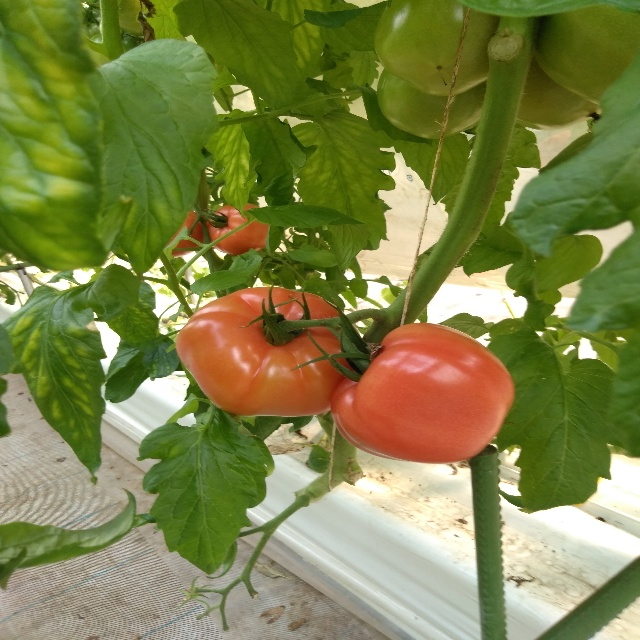b_fully_ripened: (329, 322, 514, 464), (175, 287, 369, 417), (206, 204, 269, 257)
b_green: (373, 0, 502, 97), (533, 3, 640, 106), (375, 68, 487, 140), (515, 56, 603, 131)
